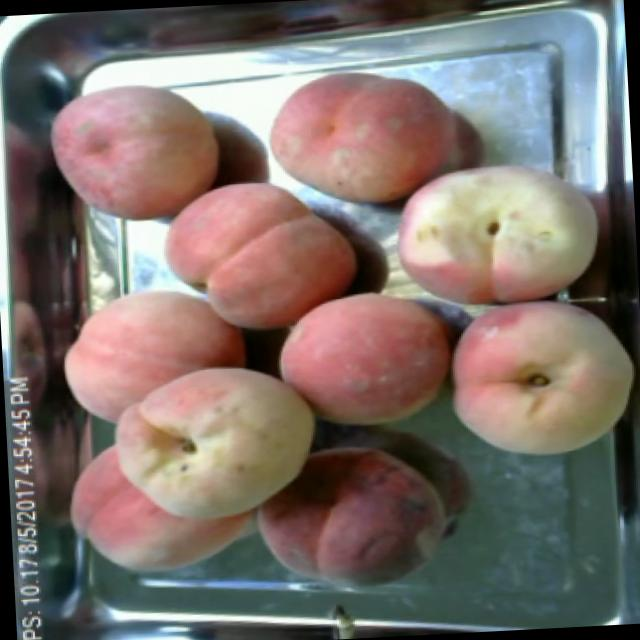Fruit: (95, 350, 328, 534), (241, 428, 468, 613), (148, 163, 372, 348), (253, 54, 489, 224), (376, 144, 612, 312), (431, 295, 640, 473), (46, 268, 258, 438), (264, 271, 471, 445), (32, 66, 234, 236)
